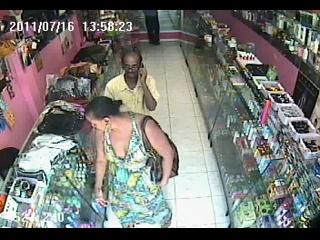Normal: (84, 97, 180, 227), (104, 52, 160, 115), (142, 10, 160, 46)
